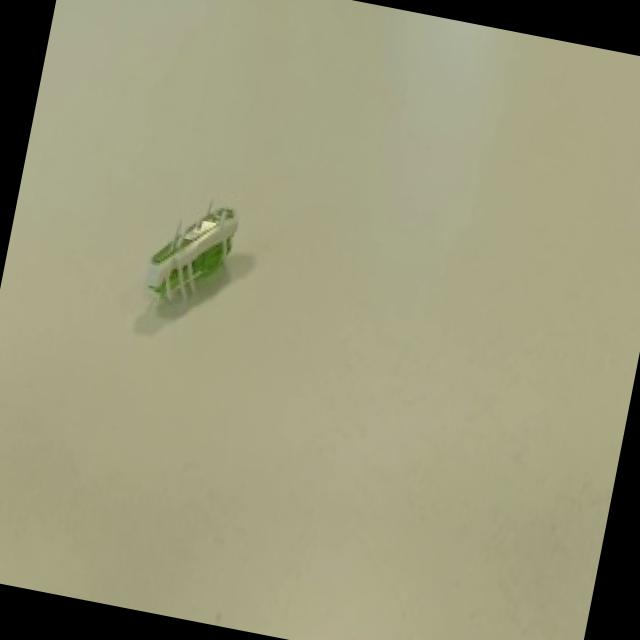4_NanoBug_Blanco: (118, 172, 290, 362)
